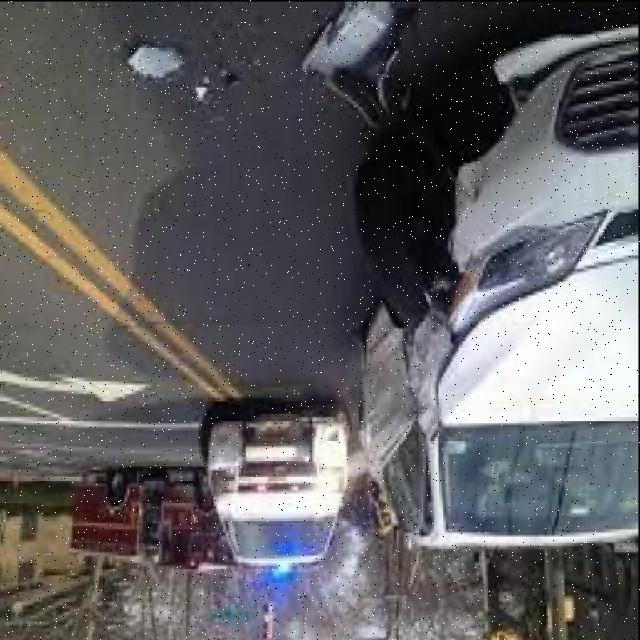damage: (401, 45, 524, 431)
